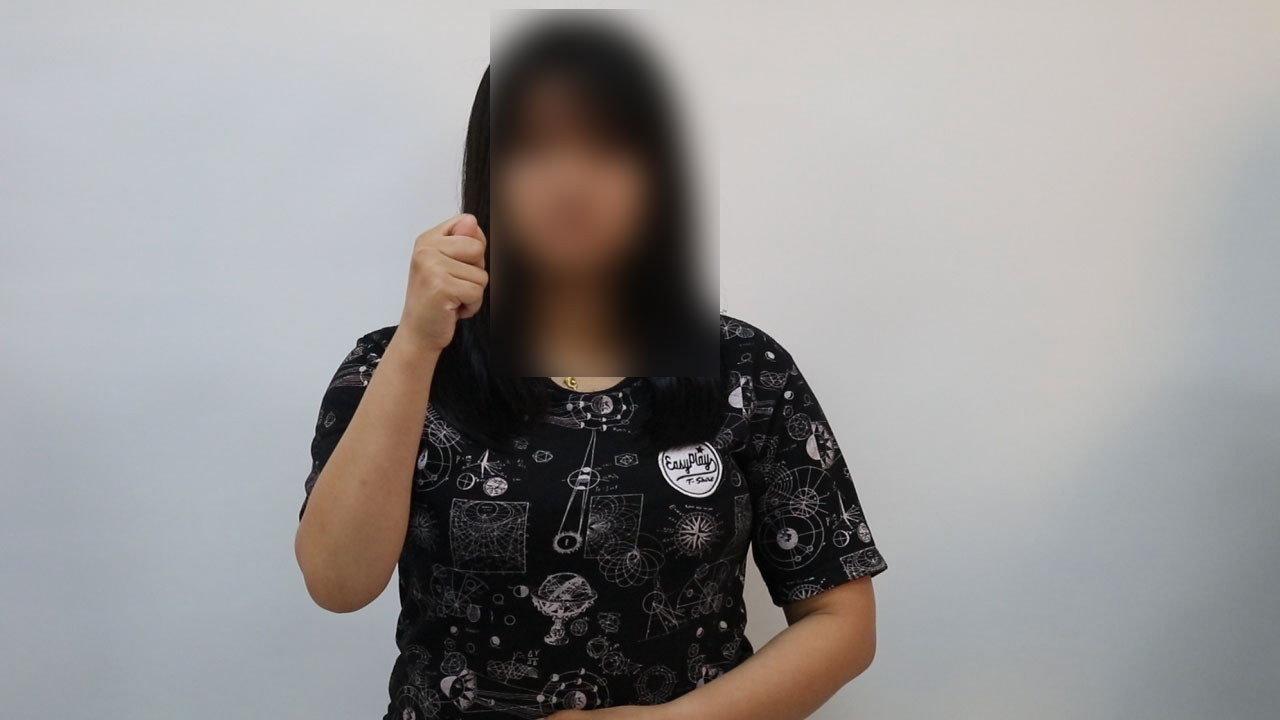tor: (386, 194, 495, 364)
